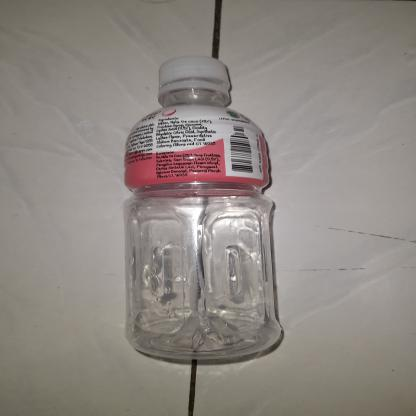plastic: (114, 51, 287, 367)
